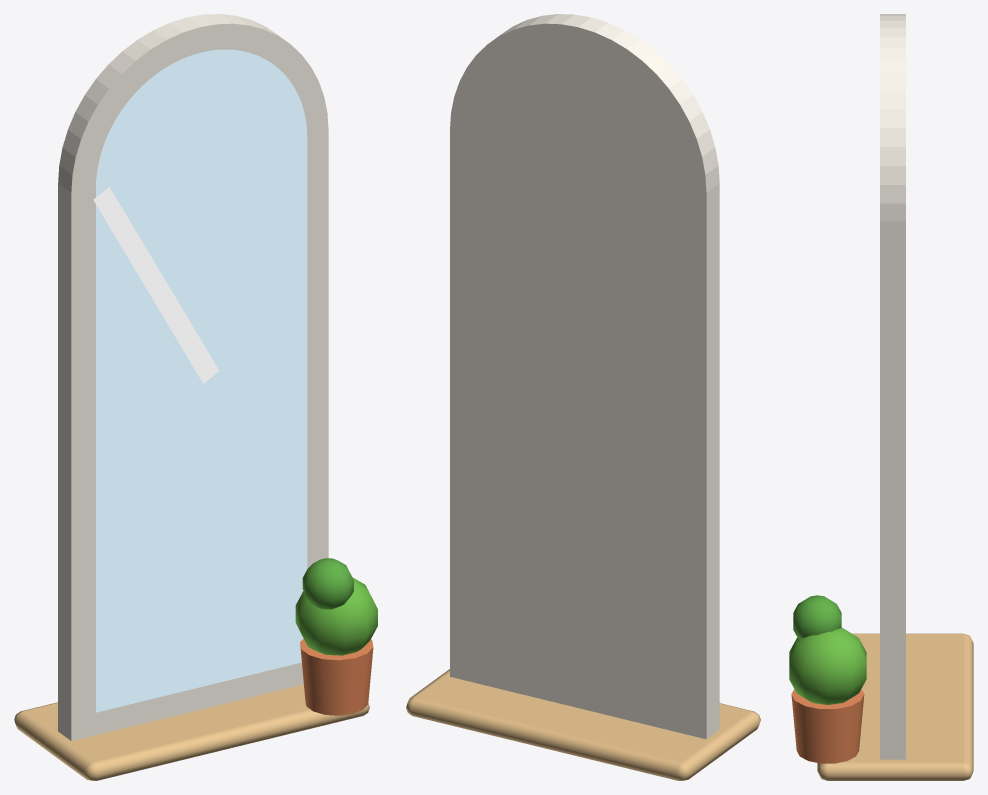
Rendered from mirror-arch.glb.
3 renders of one model, left to right at view 1: azimuth 30°, elevation 25°; view 2: azimuth 150°, elevation 25°; view 3: azimuth 270°, elevation 25°, orthographic.
Bounding box in the file's own units: 0.628 × 1.46 × 0.3542.
